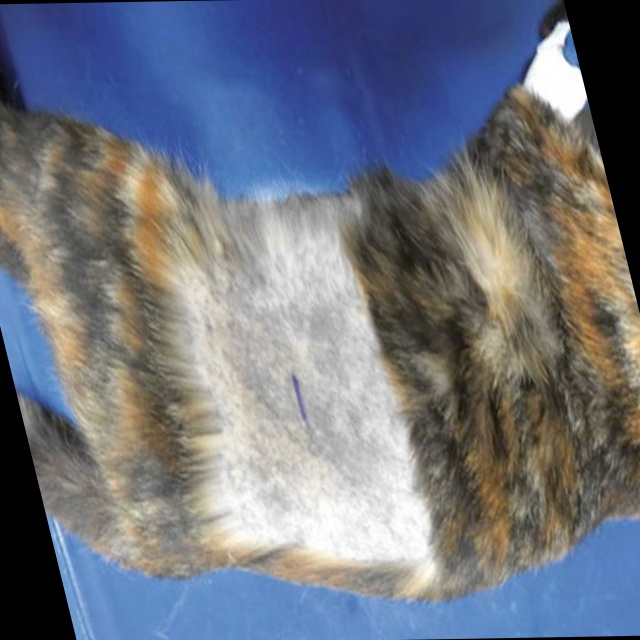hairloss: (157, 193, 441, 581)
